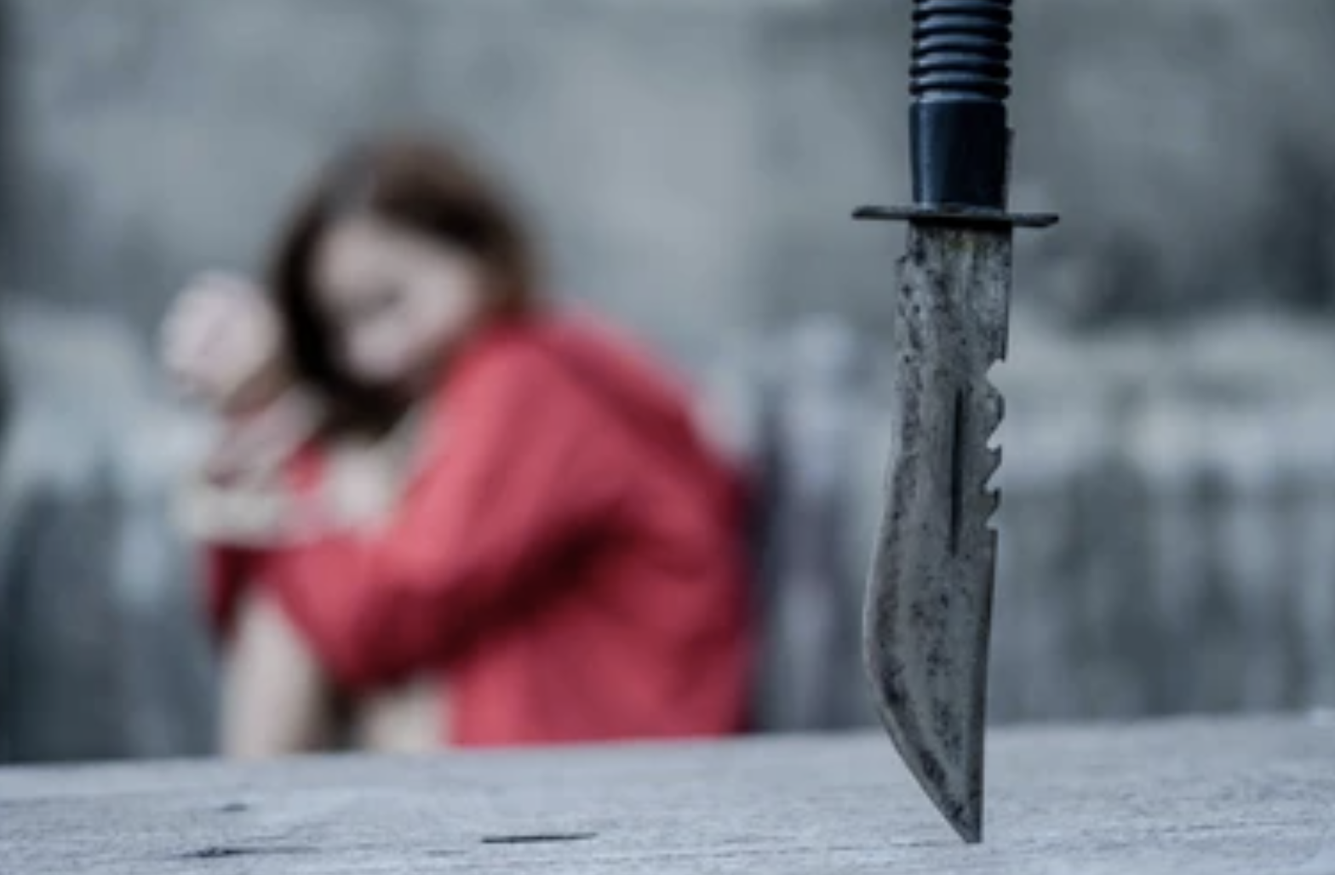knife_68.png: (811, 5, 1047, 855)
